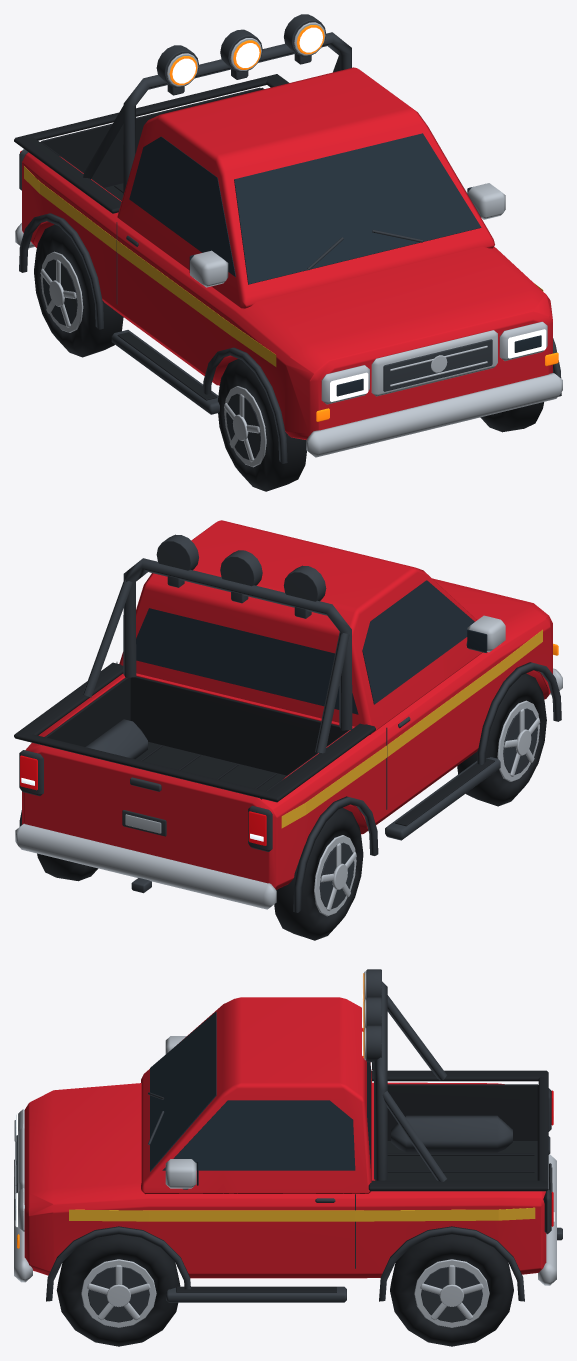
Rendered from NPC_UtilityPickup_LOD1.fbx.
3 renders of one model, top to bottom at view 1: azimuth 30°, elevation 25°; view 2: azimuth 150°, elevation 25°; view 3: azimuth 270°, elevation 25°, orthographic. The views are drawn at different scales.
Parts seen in each view (by area): view 1: NPC_UtilityPickup_LOD1; view 2: NPC_UtilityPickup_LOD1; view 3: NPC_UtilityPickup_LOD1.
Part boxes in pixels (x1,y1,x2,y2): NPC_UtilityPickup_LOD1: (14, 14, 562, 491); NPC_UtilityPickup_LOD1: (14, 520, 562, 940); NPC_UtilityPickup_LOD1: (14, 969, 562, 1346).
Size of the model in its own units: 284 by 286 by 490.
